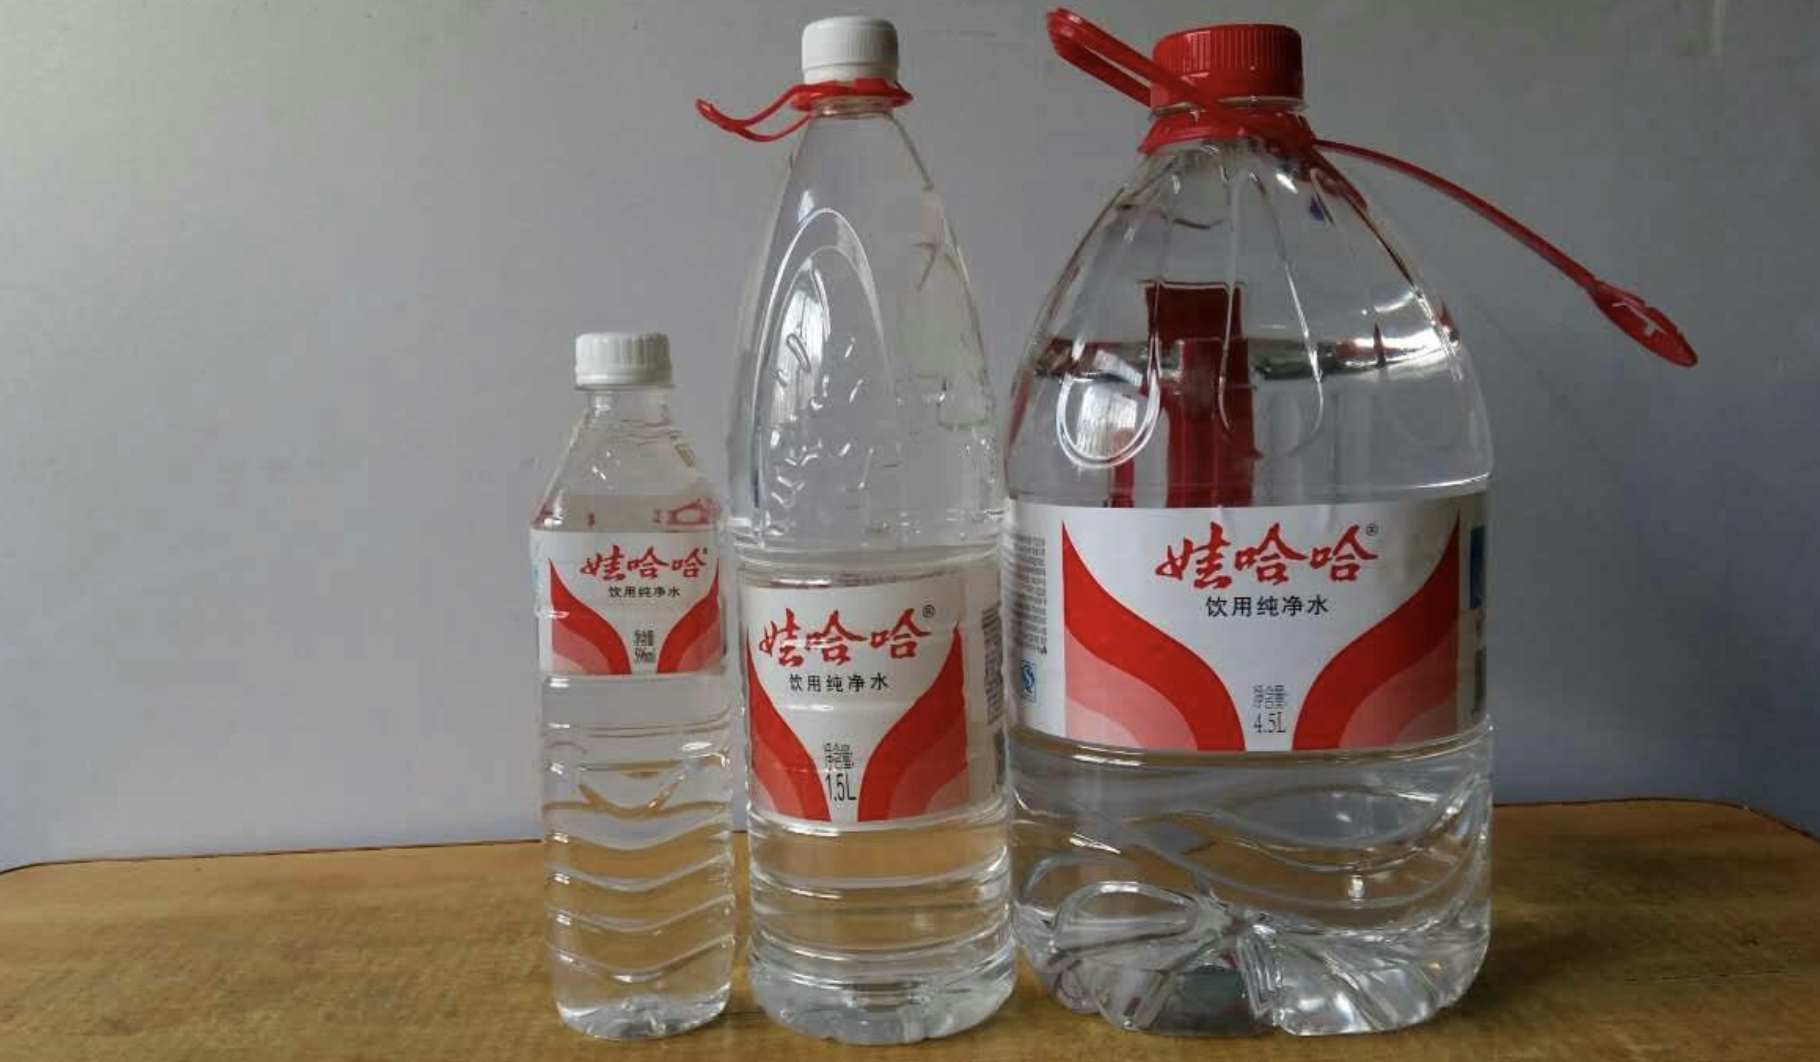哇哈哈: (1022, 15, 1504, 1035), (741, 20, 1022, 1046), (499, 322, 741, 1041)
